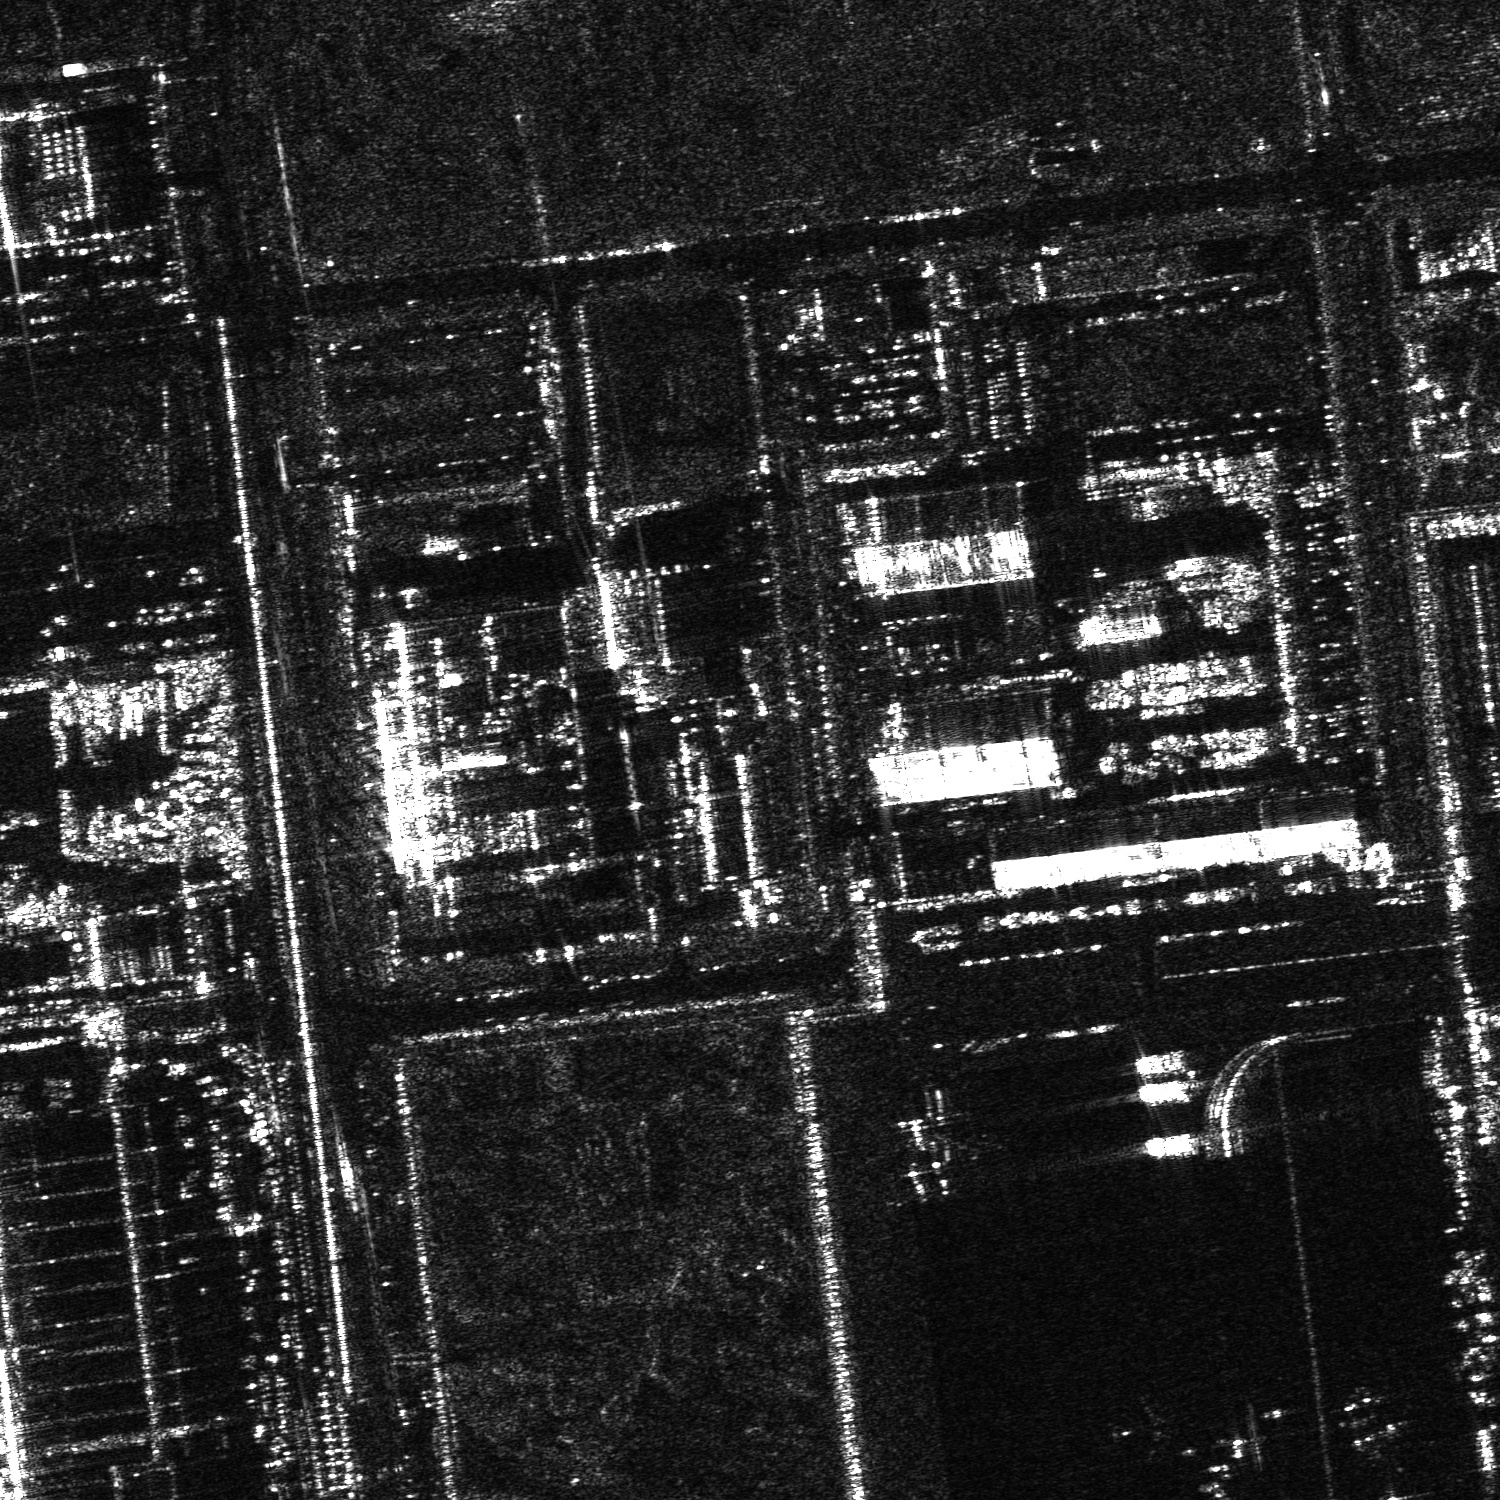Boeing787: (1103, 1389, 1180, 1462)
other: (878, 1109, 970, 1205)
